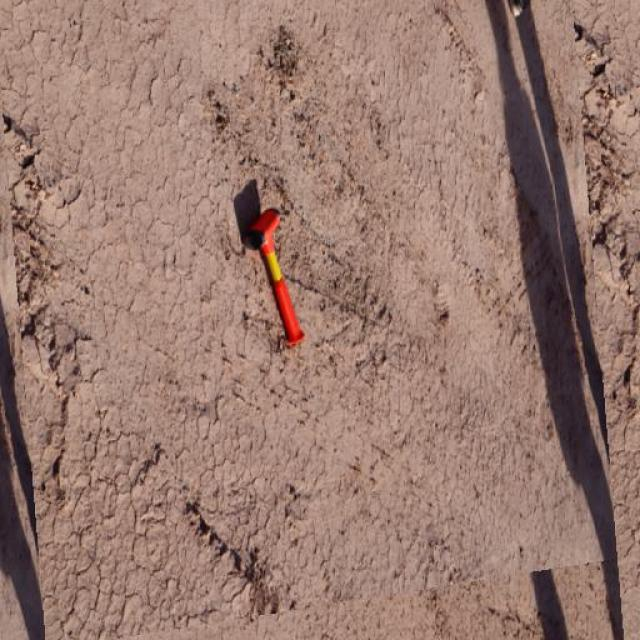mallet: (240, 206, 305, 346)
